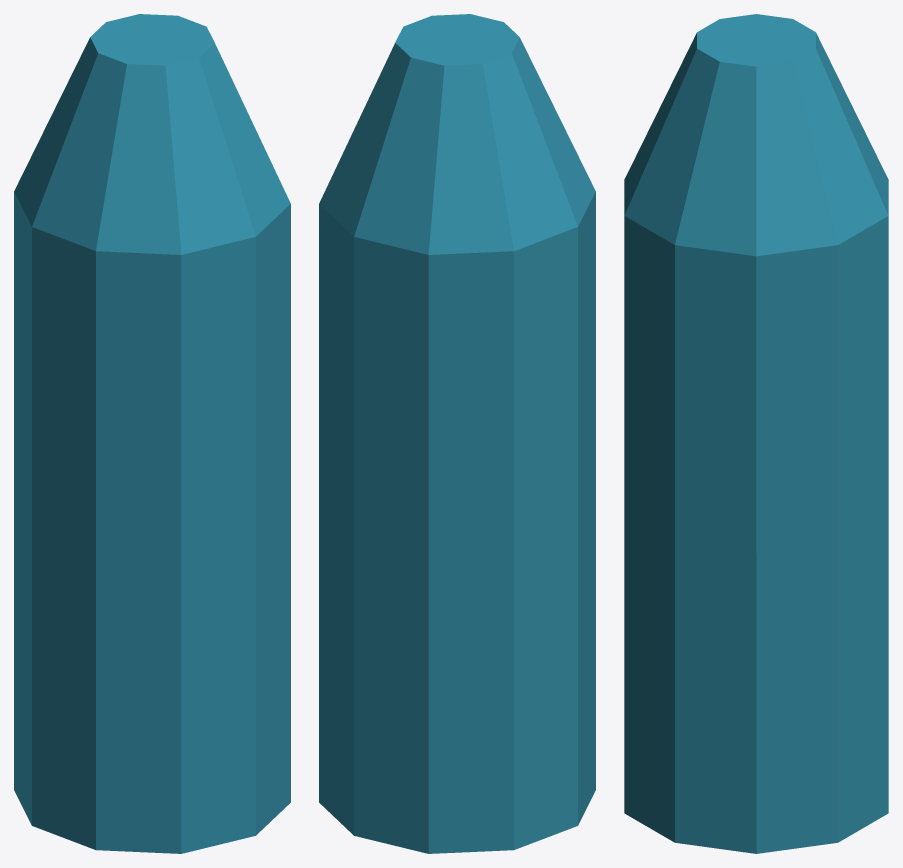
Rendered from CLN_TRASH_BOTTLE_01.fbx.
The picture shows the model from 3 angles, left to right: view 1: azimuth 30°, elevation 25°; view 2: azimuth 150°, elevation 25°; view 3: azimuth 270°, elevation 25°; orthographic projection.
Visible parts, largest first — view 1: CLN_TRASH_BOTTLE_01; view 2: CLN_TRASH_BOTTLE_01; view 3: CLN_TRASH_BOTTLE_01.
Part boxes in pixels (x1,y1,x2,y2): CLN_TRASH_BOTTLE_01: [14, 14, 290, 853]; CLN_TRASH_BOTTLE_01: [319, 14, 595, 853]; CLN_TRASH_BOTTLE_01: [624, 14, 888, 853].
Size of the model in its own units: 8 by 24 by 7.61.
